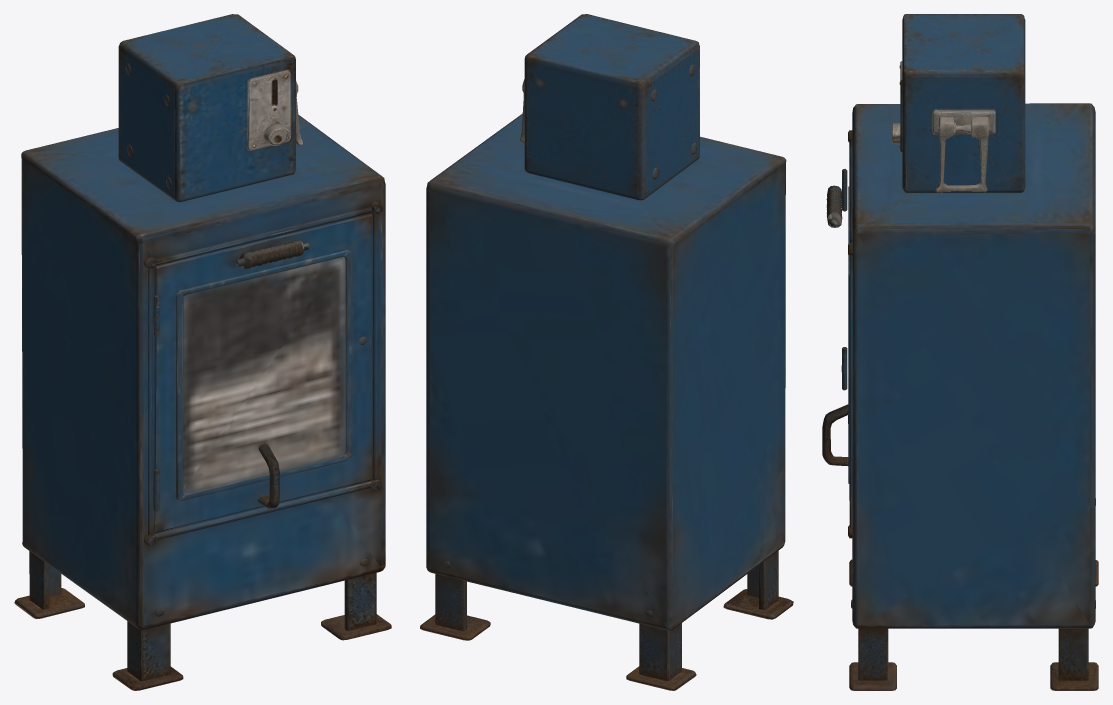
Rendered from p7-newspaper-vending-box-t25.glb.
3 views of the same model, side by side, from view 1: azimuth 30°, elevation 25°; view 2: azimuth 150°, elevation 25°; view 3: azimuth 270°, elevation 25° (orthographic). The views are drawn at different scales.
Visible parts, largest first — view 1: p7-newspaper-vending-box-t25; view 2: p7-newspaper-vending-box-t25; view 3: p7-newspaper-vending-box-t25.
Part boxes in pixels (x1,y1,x2,y2): p7-newspaper-vending-box-t25: (14,14,391,690); p7-newspaper-vending-box-t25: (420,14,793,690); p7-newspaper-vending-box-t25: (822,14,1098,690).
Bounding box in the file's own units: 0.5 × 1.05 × 0.45.
1 material, 1 textured.
